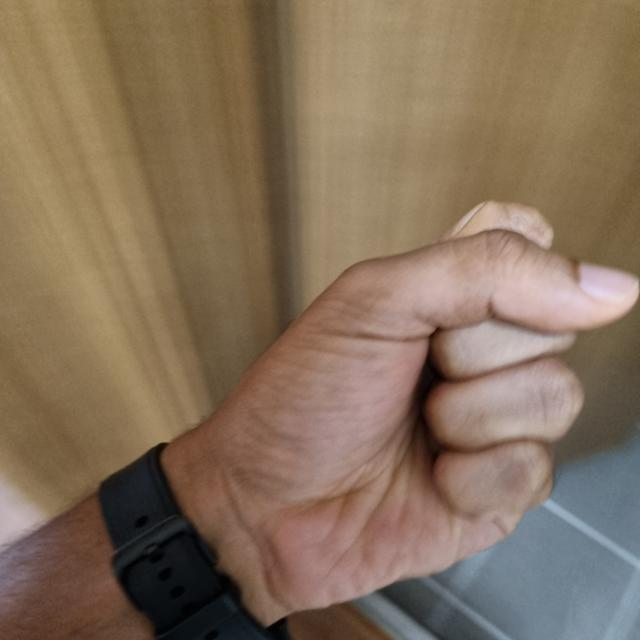Rock: (163, 217, 636, 624)
